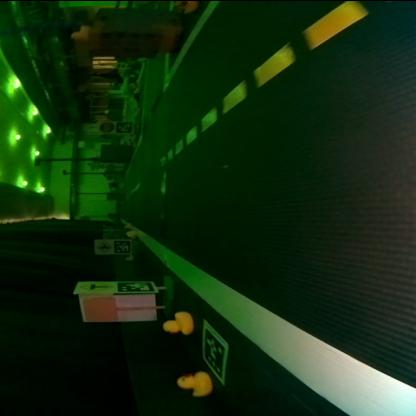Duckie: (176, 370, 210, 393), (162, 310, 193, 334), (175, 1, 199, 13), (70, 24, 88, 38), (124, 254, 132, 260), (126, 230, 134, 235)
Intersection sign: (78, 280, 111, 292), (96, 240, 110, 251)
QR code: (202, 320, 228, 380), (117, 280, 155, 291), (115, 238, 129, 252), (116, 121, 130, 131)
Stop sign: (99, 120, 112, 130)
